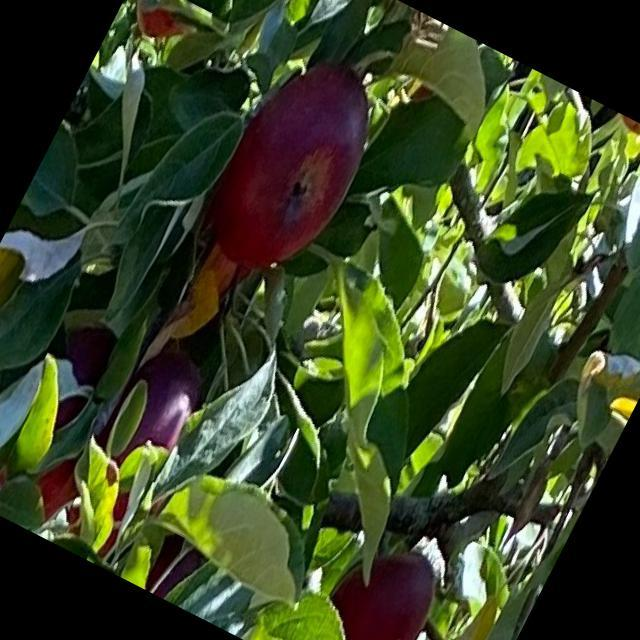100-_ripeness: (192, 44, 394, 287), (92, 338, 216, 486), (296, 528, 450, 639), (14, 437, 146, 566), (27, 312, 126, 441), (139, 526, 207, 604), (125, 0, 226, 52)
